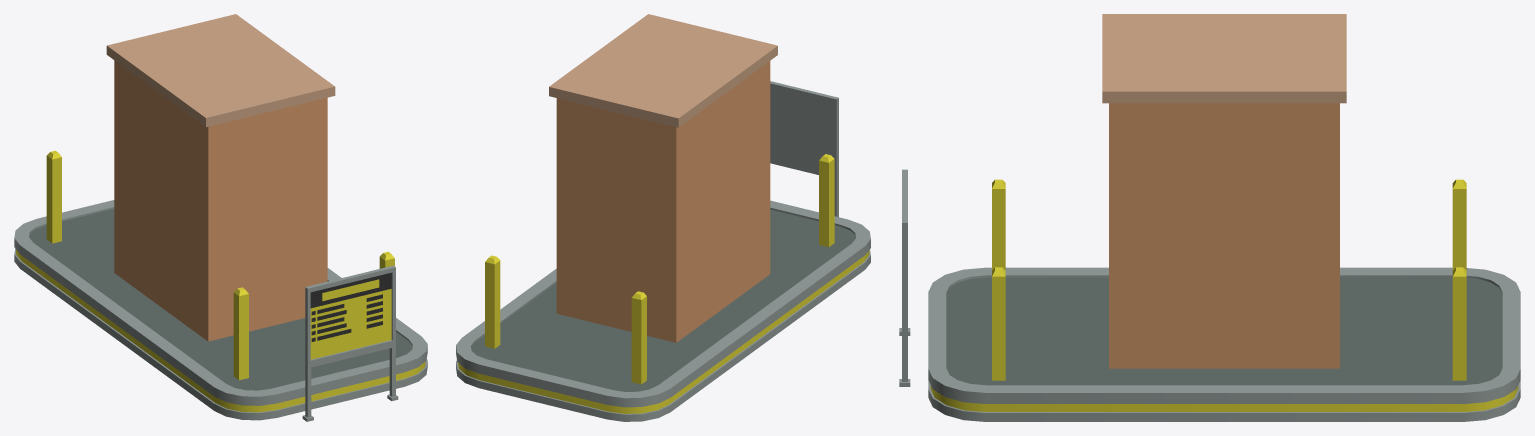
Rendered from PG_TicketBooth.fbx.
3 views of the same model, side by side, from view 1: azimuth 30°, elevation 25°; view 2: azimuth 150°, elevation 25°; view 3: azimuth 270°, elevation 25° (orthographic). The views are drawn at different scales.
Parts seen in each view (by area): view 1: Cube; view 2: Cube; view 3: Cube.
Part boxes in pixels (<box>): Cube: <box>14,14,427,421</box>; Cube: <box>456,14,870,421</box>; Cube: <box>899,14,1520,421</box>.
Bounding box in the file's own units: 200 × 229 × 420.
